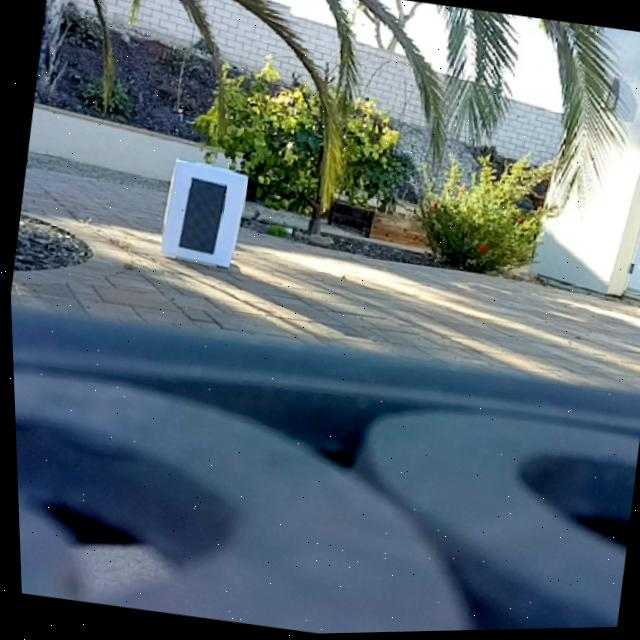led: (174, 173, 231, 259)
